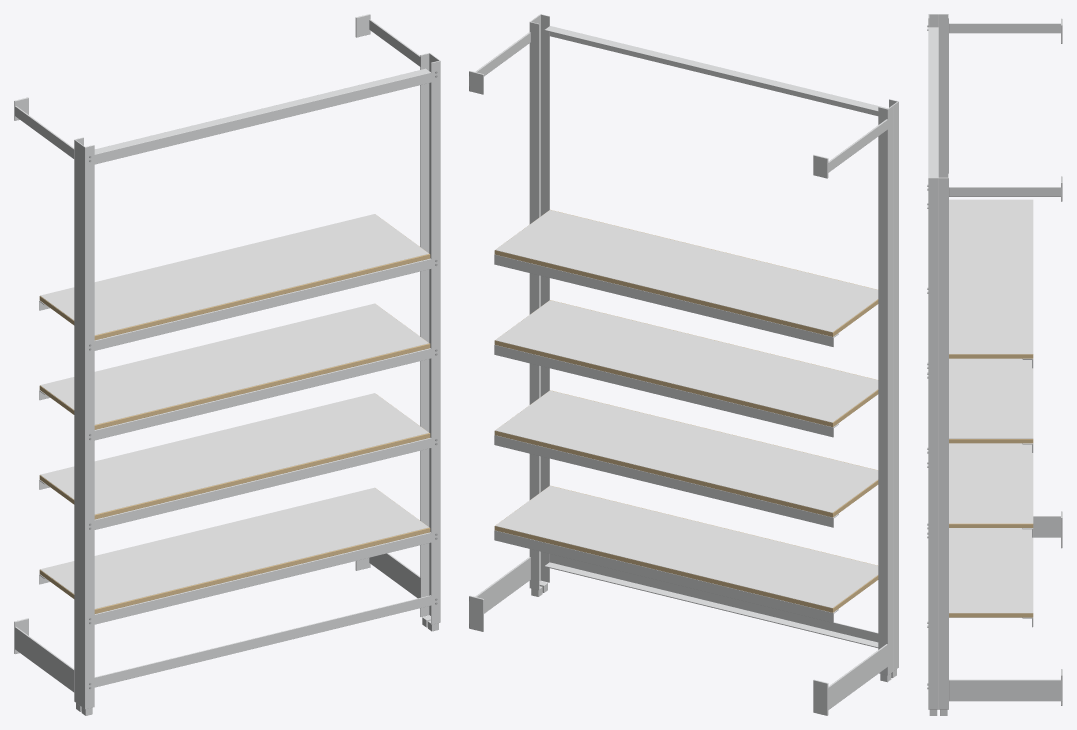
The picture shows the model from 3 angles, left to right: view 1: azimuth 30°, elevation 25°; view 2: azimuth 150°, elevation 25°; view 3: azimuth 270°, elevation 25°; orthographic projection. The views are drawn at different scales.
Visible parts, largest first — view 1: shelf1.top, shelf0.top, shelf3.top, shelf2.top, col-1.front.x, col1.front.x, col1.back.x, shelf0.front.z, rail.bottom.z, shelf3.front.z, shelf2.front.z, shelf1.front.z (+14 smaller); view 2: shelf0.top, shelf3.top, shelf1.top, shelf2.top, col-1.back.x, col1.back.x, col-1.back.y, shelf1.back.z, shelf0.back.z, col-1.front.y, shelf2.back.z, shelf3.back.z (+13 smaller); view 3: shelf3.top, shelf0.top, shelf1.top, shelf2.top, col1.back.y, col1.front.y, bracket.bottom1, rail.top.y, col-1.back.y, bracket.top-1, bracket.top1, bracket.bottom-1 (+6 smaller).
Boxes of the visible parts, box(x1,y1,x2,y2) form: shelf1.top: box(40, 393, 428, 514); shelf0.top: box(40, 487, 428, 608); shelf3.top: box(40, 214, 428, 335); shelf2.top: box(40, 303, 428, 424); col-1.front.x: box(84, 145, 94, 709); col1.front.x: box(431, 60, 440, 624); col1.back.x: box(420, 53, 429, 616); shelf0.front.z: box(94, 532, 431, 624); rail.bottom.z: box(94, 595, 431, 687); shelf3.front.z: box(94, 258, 431, 350); shelf2.front.z: box(94, 348, 431, 440); shelf1.front.z: box(94, 438, 431, 529); shelf0.top: box(495, 485, 878, 608); shelf3.top: box(495, 210, 878, 332); shelf1.top: box(495, 390, 878, 512); shelf2.top: box(495, 300, 878, 422); col-1.back.x: box(878, 107, 888, 675); col1.back.x: box(529, 21, 539, 590); col-1.back.y: box(887, 105, 893, 674); shelf1.back.z: box(494, 436, 833, 527); shelf0.back.z: box(494, 531, 833, 622); col-1.front.y: box(893, 101, 898, 671); shelf2.back.z: box(494, 345, 833, 437); shelf3.back.z: box(494, 255, 833, 346); shelf3.top: box(949, 199, 1033, 354); shelf0.top: box(949, 528, 1033, 613); shelf1.top: box(949, 443, 1033, 523); shelf2.top: box(949, 358, 1033, 438); col1.back.y: box(938, 177, 948, 709); col1.front.y: box(928, 177, 938, 709); bracket.bottom1: box(949, 679, 1062, 701); rail.top.y: box(928, 27, 938, 177); col-1.back.y: box(938, 14, 947, 177); bracket.top-1: box(949, 23, 1060, 33); bracket.top1: box(949, 187, 1062, 196); bracket.bottom-1: box(1033, 516, 1060, 537).
Bounding box in the file's own units: 1.5 × 2.29 × 0.52.
